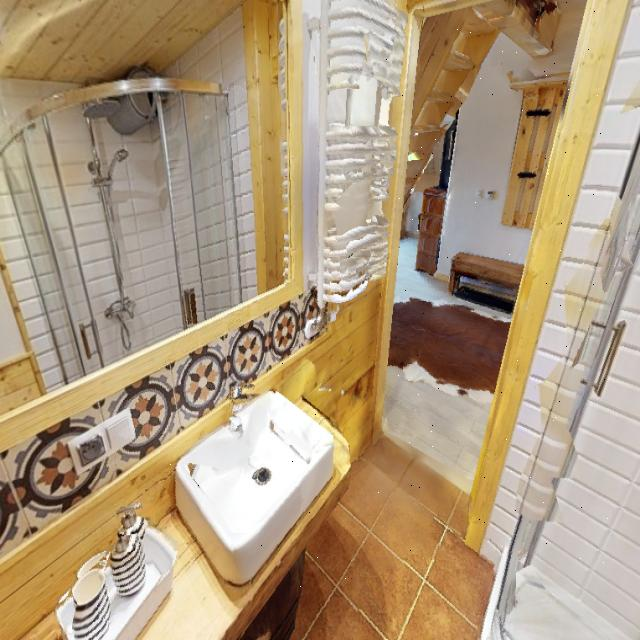door-frame: (378, 0, 608, 563)
sink: (169, 363, 346, 604)
